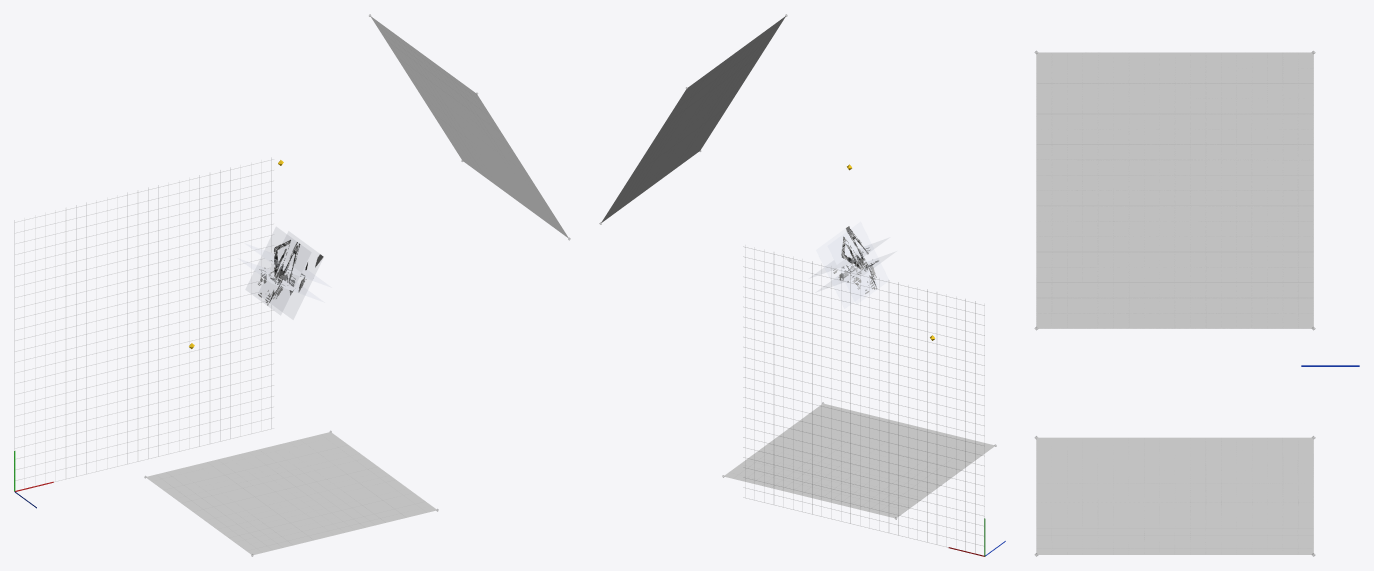
The model's file is cs_technion_shards.obj.
3 renders of one model, left to right at view 1: azimuth 30°, elevation 25°; view 2: azimuth 150°, elevation 25°; view 3: azimuth 270°, elevation 25°, orthographic. The views are drawn at different scales.
Visible parts, largest first — view 1: wall_A, wall_B, grid_floor, panel_F0p1, panel_F0p0; view 2: wall_A, wall_B, grid_floor, panel_F0p1, panel_F0p0; view 3: wall_B, wall_A, grid_wallB.
Part boxes in pixels (box(x1,y1,x2,y2)): wall_A: box(146, 432, 436, 555); wall_B: box(370, 16, 568, 238); grid_floor: box(14, 157, 273, 490); panel_F0p1: box(246, 227, 310, 314); panel_F0p0: box(259, 232, 322, 318); wall_A: box(724, 403, 994, 518); wall_B: box(601, 16, 785, 222); grid_floor: box(743, 246, 984, 553); panel_F0p1: box(828, 222, 888, 303); panel_F0p0: box(816, 229, 876, 307); wall_B: box(1036, 52, 1313, 328); wall_A: box(1036, 437, 1313, 554); grid_wallB: box(1036, 52, 1313, 328).
Size of the model in its own units: 4203 by 3809 by 2115.
